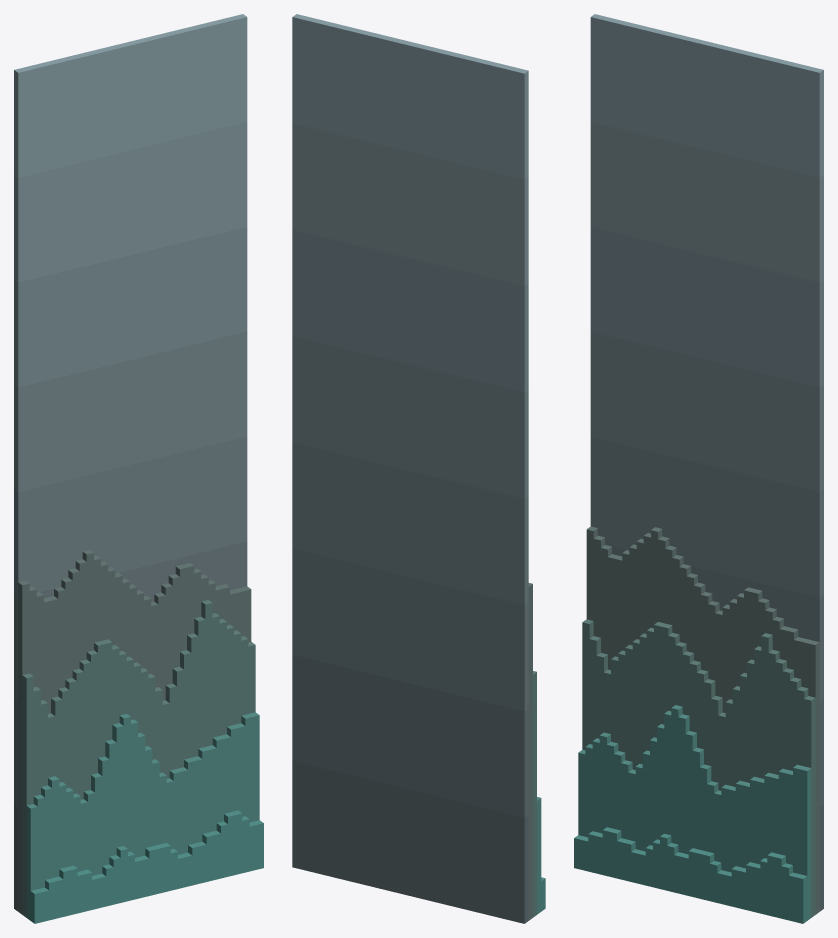
Rendered from scene_artic.glb.
3 renders of one model, left to right at view 1: azimuth 30°, elevation 25°; view 2: azimuth 150°, elevation 25°; view 3: azimuth 330°, elevation 25°, orthographic.
Visible parts, largest first — view 1: scene_artic_61, scene_artic_60, scene_artic_59, scene_artic_58, scene_artic_57; view 2: scene_artic_61, scene_artic_58, scene_artic_60, scene_artic_59; view 3: scene_artic_61, scene_artic_60, scene_artic_59, scene_artic_58, scene_artic_57.
Part boxes in pixels (x1,y1,x2,y2): scene_artic_61: (14,14,247,911); scene_artic_60: (22,600,255,917); scene_artic_59: (26,712,259,920); scene_artic_58: (18,550,251,914); scene_artic_57: (30,810,263,923); scene_artic_61: (292,14,528,923); scene_artic_58: (528,583,532,920); scene_artic_60: (533,671,536,917); scene_artic_59: (537,797,541,914); scene_artic_61: (590,14,823,911); scene_artic_60: (582,619,815,917); scene_artic_59: (578,705,811,920); scene_artic_58: (586,526,819,914); scene_artic_57: (574,827,807,923).
Size of the model in its own units: 3.2 by 11.2 by 0.5.
1 material, 1 textured.
